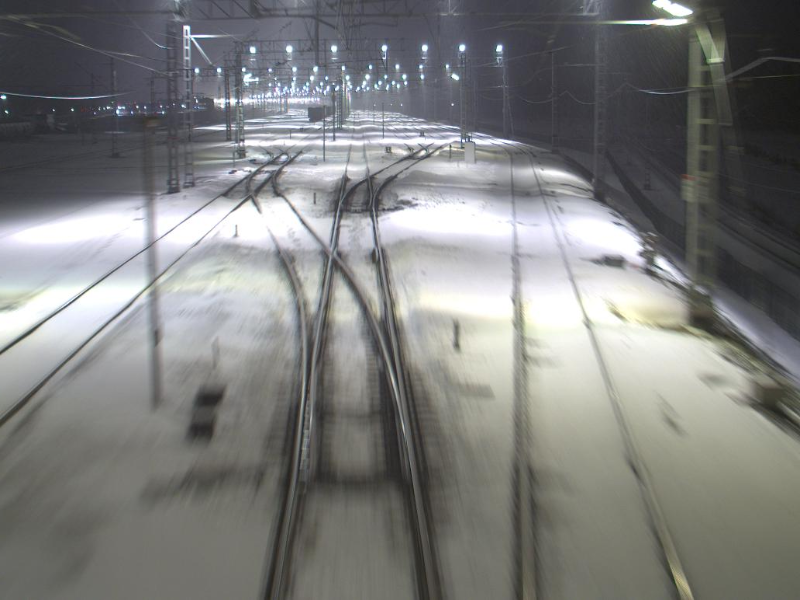left: (282, 249, 431, 491)
right: (338, 174, 376, 207)
